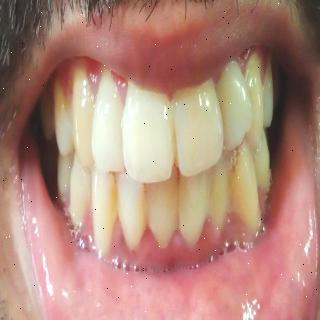calculus: (230, 156, 264, 242), (206, 164, 234, 236), (166, 106, 190, 186), (168, 182, 192, 250), (100, 183, 124, 249), (135, 185, 157, 247)
maligned: (172, 83, 224, 175), (213, 55, 257, 157)
